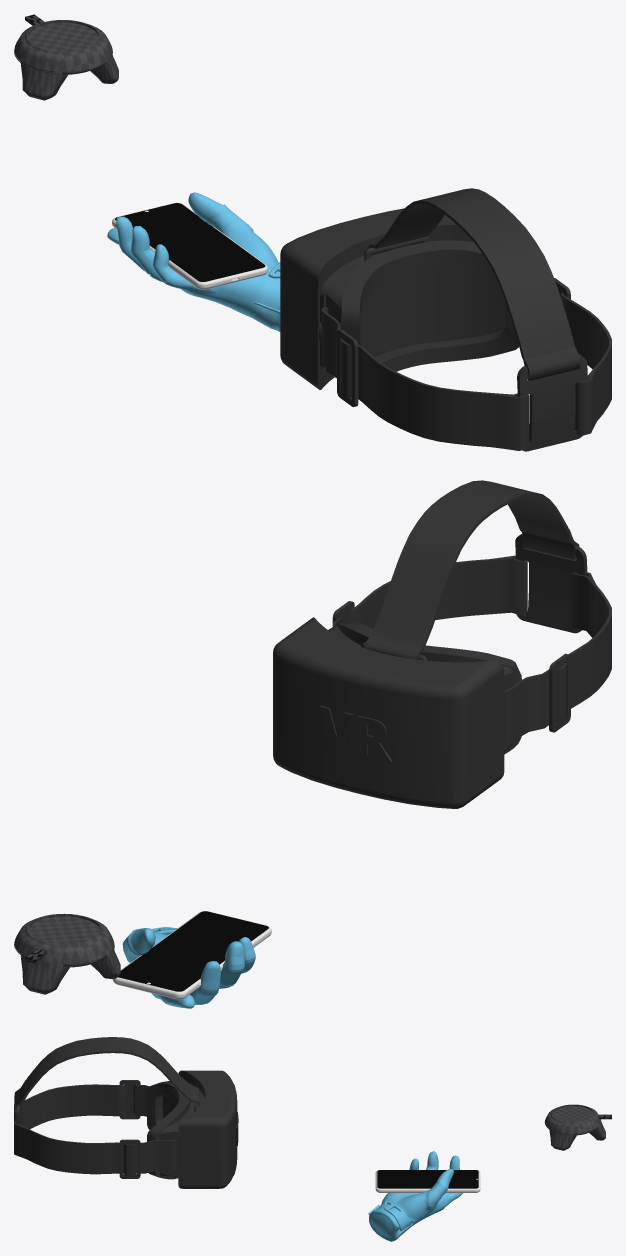
Rendered from phone-graphic-2.glb.
The picture shows the model from 3 angles, top to bottom: view 1: azimuth 30°, elevation 25°; view 2: azimuth 150°, elevation 25°; view 3: azimuth 270°, elevation 25°; orthographic projection. The views are drawn at different scales.
Parts seen in each view (by area): view 1: hmd, phone, tracker; view 2: hmd, phone, tracker; view 3: hmd, phone, tracker.
Boxes of the visible parts, x1,y1,x2,y2 form: hmd: (280, 188, 611, 451); phone: (107, 192, 280, 331); tracker: (14, 14, 118, 100); hmd: (273, 480, 611, 808); phone: (113, 911, 271, 1008); tracker: (14, 913, 120, 994); hmd: (14, 1037, 238, 1188); phone: (368, 1151, 480, 1241); tracker: (544, 1104, 611, 1150).
Size of the model in its own units: 0.2283 by 0.3057 by 0.9253.
Materials: 5 (1 with a texture image).
